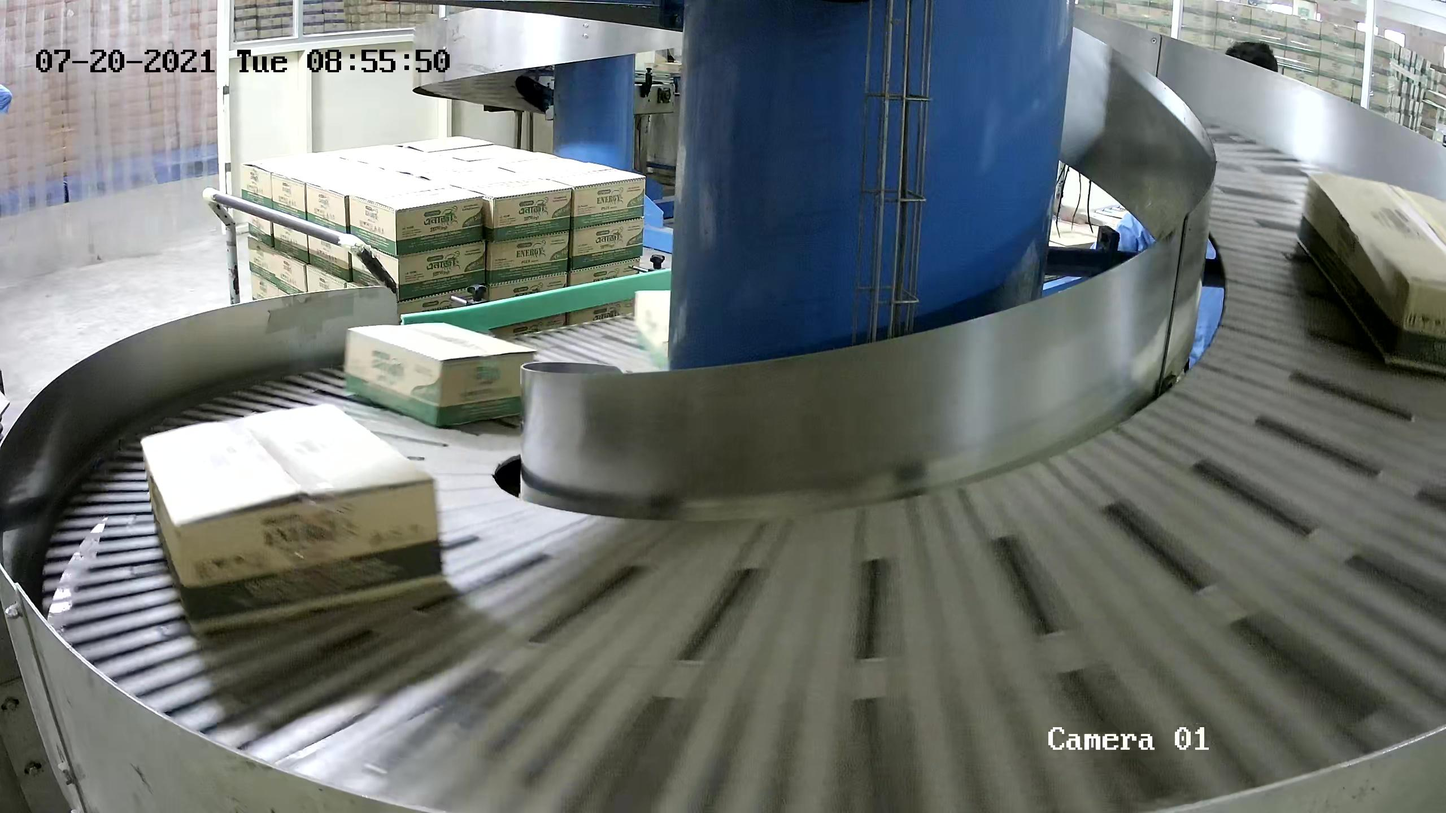Box: (140, 402, 446, 636), (1292, 170, 1446, 379), (344, 320, 536, 429)
